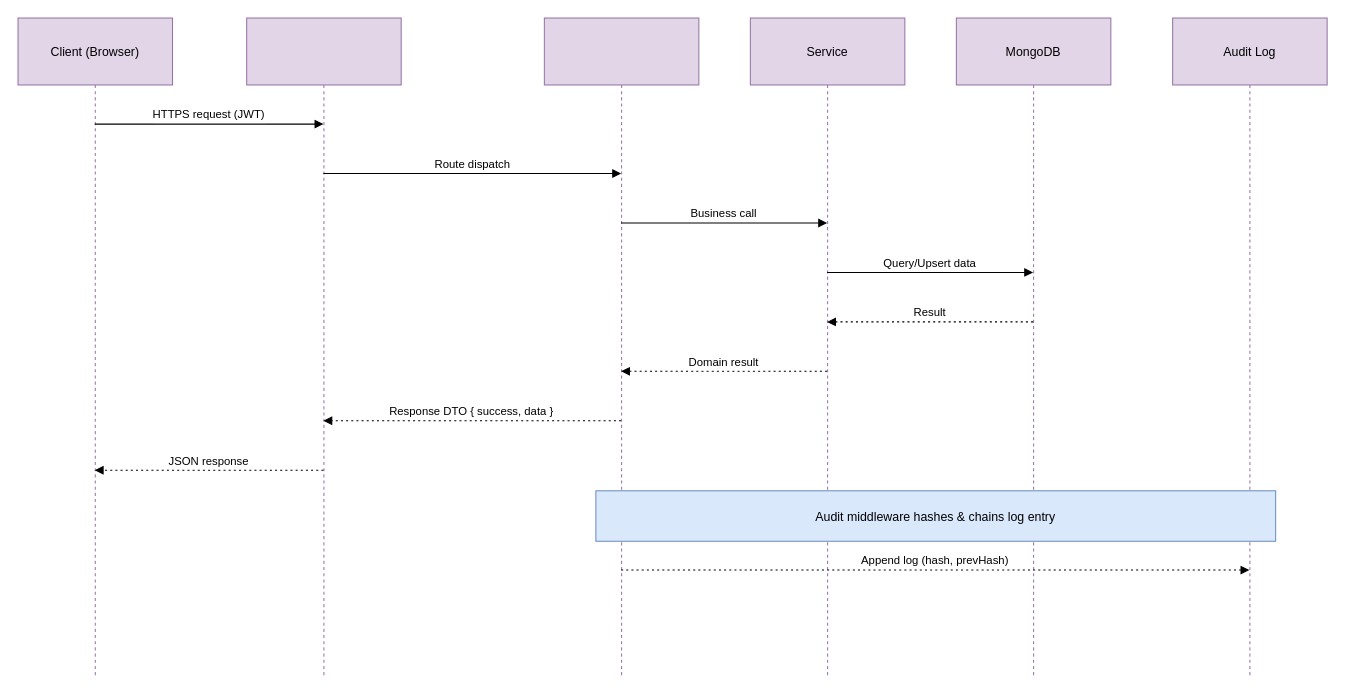
This 1345x696 diagram has some shape labels left out. The shapes that lost their labels are listed below. From the top down, each one's box as (x1, y1, x2, y2) in pixels, then its label:
(246, 17, 401, 678): API (Express)
(543, 17, 699, 678): Controller
